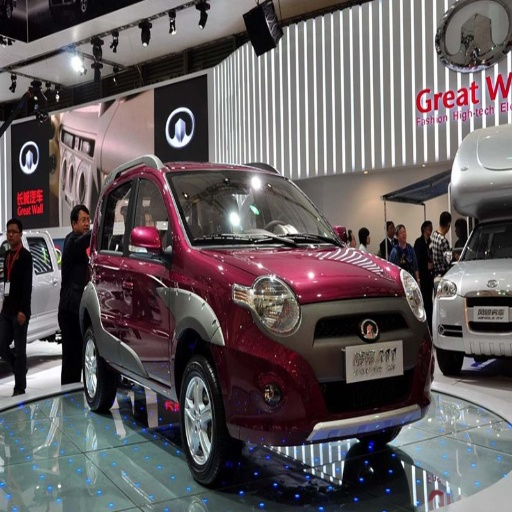front_bumper: (225, 336, 402, 448)
front_right_door: (119, 167, 172, 385)
front_right_light: (235, 276, 300, 339)
tailgate: (319, 284, 416, 388)
trunk: (301, 258, 350, 348)
